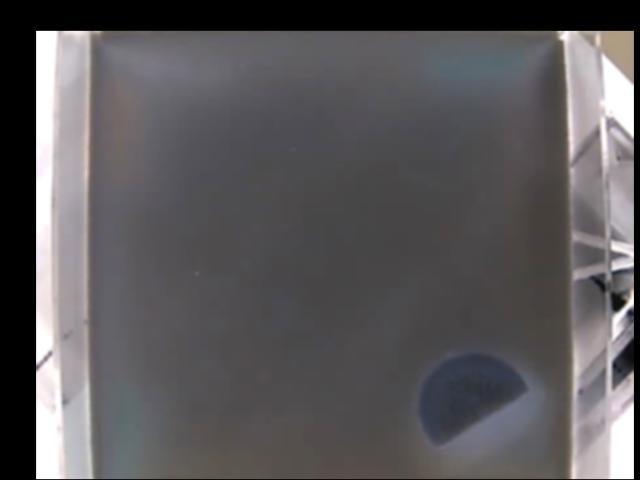Mooli: (417, 351, 531, 443)
